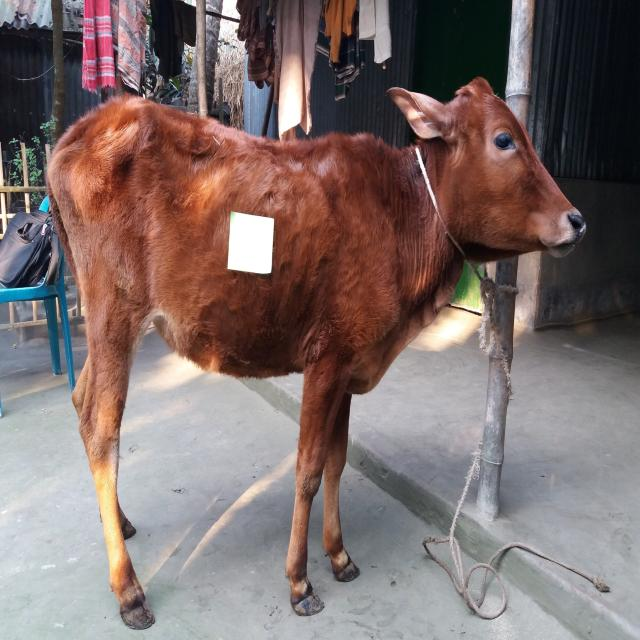badan_sapi: (78, 102, 394, 392)
sapi: (39, 73, 596, 638)
